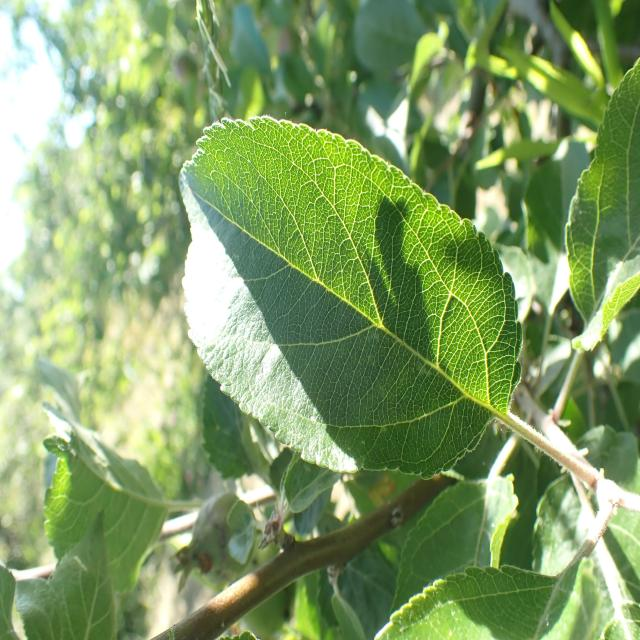healthy: (179, 113, 524, 479), (529, 424, 640, 640), (564, 59, 640, 352), (42, 429, 168, 596), (3, 511, 117, 640), (374, 563, 560, 640)
